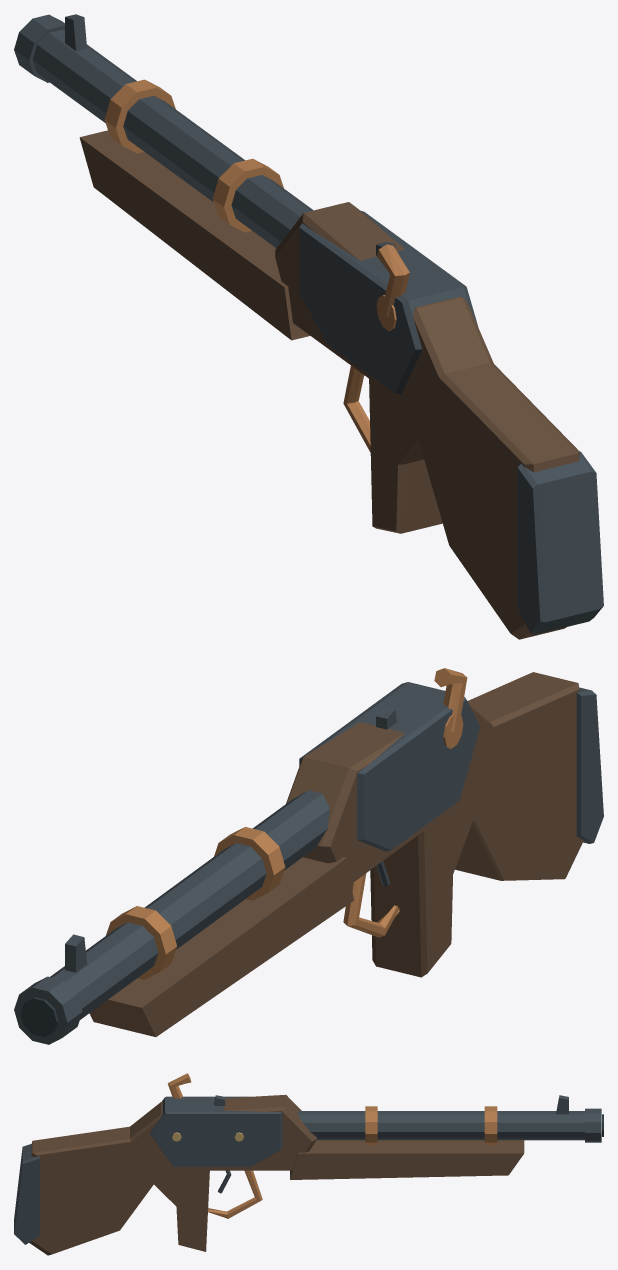
The model's file is AEW_Longgun_PilgrimMusket.fbx.
3 views of the same model, one above another, from view 1: azimuth 30°, elevation 25°; view 2: azimuth 150°, elevation 25°; view 3: azimuth 270°, elevation 25° (orthographic). The views are drawn at different scales.
Parts seen in each view (by area): view 1: AEW_Longgun_PilgrimMusket; view 2: AEW_Longgun_PilgrimMusket; view 3: AEW_Longgun_PilgrimMusket.
Part boxes in pixels (x1,y1,x2,y2): AEW_Longgun_PilgrimMusket: (14, 14, 603, 639); AEW_Longgun_PilgrimMusket: (14, 668, 603, 1044); AEW_Longgun_PilgrimMusket: (14, 1073, 603, 1255).
Size of the model in its own units: 0.1201 by 0.4759 by 1.51.
